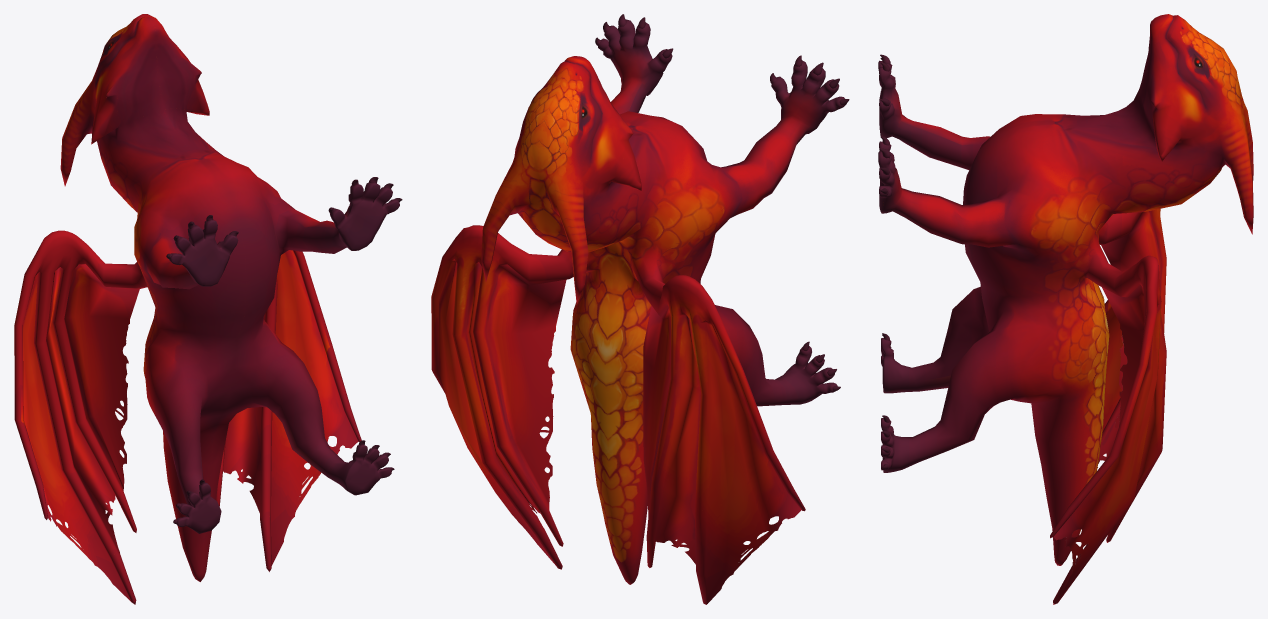
File: Red Dragon.fbx
3 views of the same model, side by side, from view 1: azimuth 30°, elevation 25°; view 2: azimuth 150°, elevation 25°; view 3: azimuth 270°, elevation 25° (orthographic). The views are drawn at different scales.
Visible parts, largest first — view 1: mesh; view 2: mesh; view 3: mesh.
Boxes of the visible parts, x1,y1,x2,y2 form: mesh: (14,14,402,604); mesh: (431,14,849,604); mesh: (878,14,1253,604).
Bounding box in the file's own units: 16665 × 26735 × 16380.
